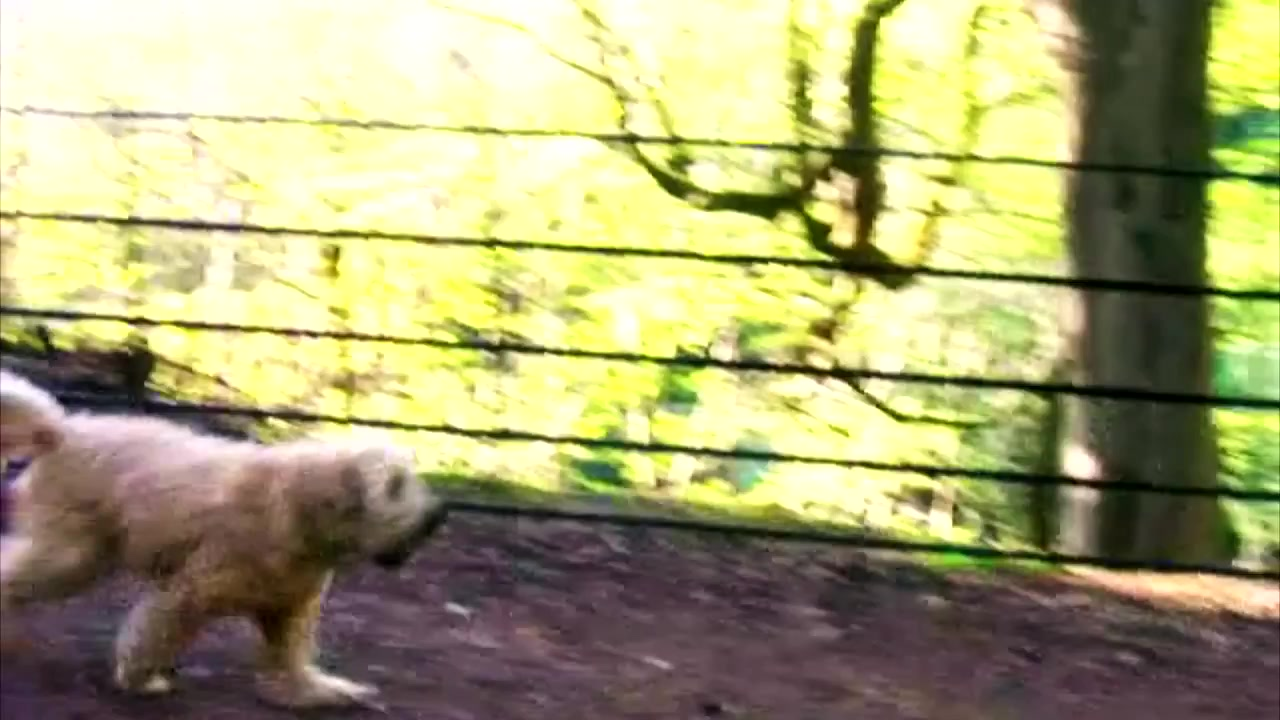dog: (1, 370, 453, 717)
